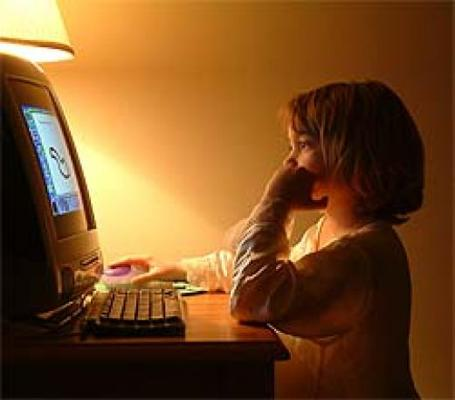person: (118, 79, 424, 400)
